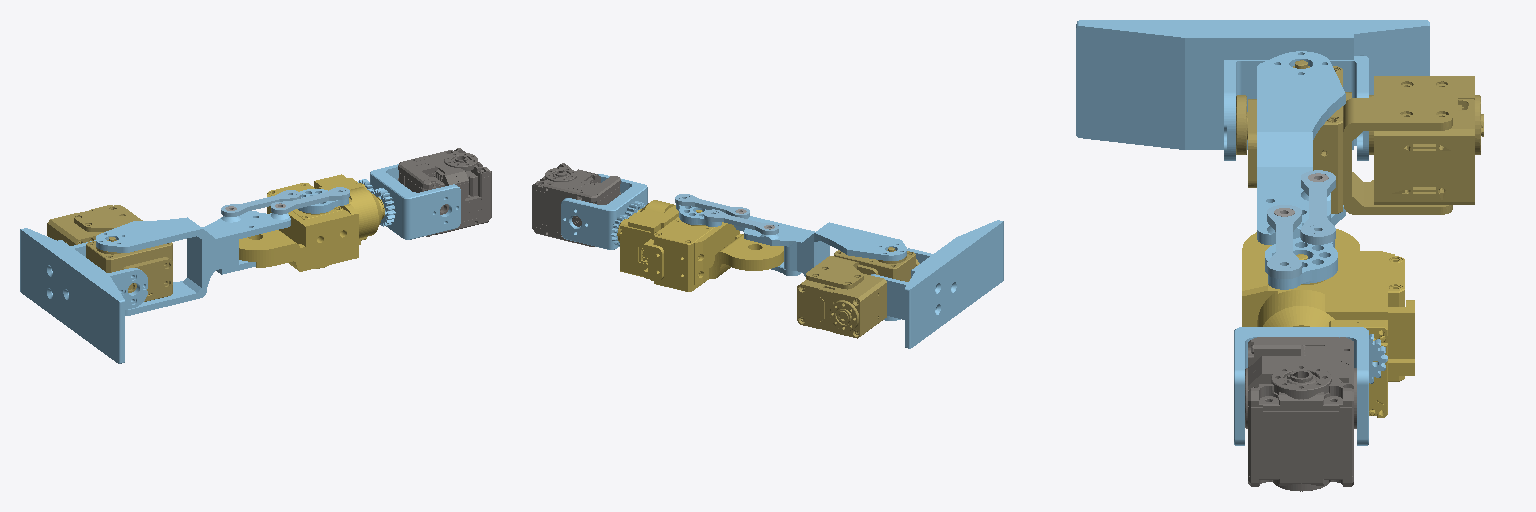
URDF robot description (left_leg_reorder):
<?xml version="1.0" ?><robot name="left_leg_reorder">  
  <link name="2xc430">    
    <visual>      
      <origin xyz="0 0 0" rpy="0 -0 0"/>      
      <geometry>        
        <mesh filename="package:///meshes/left_2xc430_visual.stl"/>        
      </geometry>      
      <material name="2xc430_material">        
        <color rgba="0.51698661238356047321 0.50347815951093488618 0.49050589017722012741 1.0"/>        
      </material>      
    </visual>    
    <collision>      
      <origin xyz="0 0 0" rpy="0 -0 0"/>      
      <geometry>        
        <mesh filename="package:///meshes/left_2xc430_collision.stl"/>        
      </geometry>      
    </collision>    
    <inertial>      
      <origin xyz="-0.012000151133967865147 0.00049588831386336226781 0.018504019244503618763" rpy="0 0 0"/>      
      <mass value="0.11059999999836234164"/>      
      <inertia ixx="2.2818802599021433919e-05" ixy="4.6888548259072258494e-08" ixz="4.6520143289445516196e-08" iyy="3.0871666424472358657e-05" iyz="-5.7477343899722563502e-07" izz="3.0871632082341921239e-05"/>      
    </inertial>    
  </link>  

  <link name="hip_yaw_link">    
    <visual>      
      <origin xyz="0 0 0" rpy="0 -0 0"/>      
      <geometry>        
        <mesh filename="package:///meshes/left_hip_yaw_link_visual.stl"/>        
      </geometry>      
      <material name="hip_yaw_link_material">        
        <color rgba="0.61568627450980395466 0.81176470588235283277 0.92941176470588238168 1.0"/>        
      </material>      
    </visual>    
    <collision>      
      <origin xyz="0 0 0" rpy="0 -0 0"/>      
      <geometry>        
        <mesh filename="package:///meshes/left_hip_yaw_link_collision.stl"/>        
      </geometry>      
    </collision>    
    <inertial>      
      <origin xyz="-2.6529777091804280315e-18 -0.015800610849654266737 -0.019005670096647751116" rpy="0 0 0"/>      
      <mass value="0.013199999999999994724"/>      
      <inertia ixx="5.7894615975174157252e-06" ixy="-4.5096954887673693913e-35" ixz="-4.6860781276867837534e-35" iyy="5.0110144042848759377e-06" iyz="1.1826010760651800808e-09" izz="2.7344876354814335894e-06"/>      
    </inertial>    
  </link>  

  <link name="spur_gear_21_teeth">    
    <visual>      
      <origin xyz="0 0 0" rpy="0 -0 0"/>      
      <geometry>        
        <mesh filename="package:///meshes/left_spur_gear_21_teeth_visual.stl"/>        
      </geometry>      
      <material name="spur_gear_21_teeth_material">        
        <color rgba="0.61568627450980395466 0.81176470588235294379 0.9294117647058824927 1.0"/>        
      </material>      
    </visual>    
    <collision>      
      <origin xyz="0 0 0" rpy="0 -0 0"/>      
      <geometry>        
        <mesh filename="package:///meshes/left_spur_gear_21_teeth_collision.stl"/>        
      </geometry>      
    </collision>    
    <inertial>      
      <origin xyz="-4.5505289275732625397e-11 -1.6782160465261941845e-11 -0.00249241020062506086" rpy="0 0 0"/>      
      <mass value="0.0022000000000000001325"/>      
      <inertia ixx="7.0162310059594196881e-08" ixy="3.8801235249534522434e-48" ixz="2.812550158047784253e-36" iyy="7.016231005804746178e-08" iyz="3.6086829965958625889e-39" izz="1.3125544198538289306e-07"/>      
    </inertial>    
  </link>  

  <link name="left_hip_pitch_link">    
    <visual>      
      <origin xyz="0 0 0" rpy="0 -0 0"/>      
      <geometry>        
        <mesh filename="package:///meshes/left_hip_pitch_link_visual.stl"/>        
      </geometry>      
      <material name="left_hip_pitch_link_material">        
        <color rgba="0.79618318075804139777 0.72120748766550990538 0.38540937988910844991 1.0"/>        
      </material>      
    </visual>    
    <collision>      
      <origin xyz="0 0 0" rpy="0 -0 0"/>      
      <geometry>        
        <mesh filename="package:///meshes/left_hip_pitch_link_collision.stl"/>        
      </geometry>      
    </collision>    
    <inertial>      
      <origin xyz="-0.0092773123251564133113 -0.0054583150498874076148 0.03951473811674113823" rpy="0 0 0"/>      
      <mass value="0.15848965119785962674"/>      
      <inertia ixx="8.2188788742760970928e-05" ixy="-1.3373705321924678437e-06" ixz="-9.0917451363903152822e-06" iyy="9.9396334685477745453e-05" iyz="1.298937899441436632e-06" izz="4.5892431466748451869e-05"/>      
    </inertial>    
  </link>  

  <link name="spur_gear_18_teeth">    
    <visual>      
      <origin xyz="0 0 0" rpy="0 -0 0"/>      
      <geometry>        
        <mesh filename="package:///meshes/left_spur_gear_18_teeth_visual.stl"/>        
      </geometry>      
      <material name="spur_gear_18_teeth_material">        
        <color rgba="0.61568627450980395466 0.81176470588235294379 0.92941176470588238168 1.0"/>        
      </material>      
    </visual>    
    <collision>      
      <origin xyz="0 0 0" rpy="0 -0 0"/>      
      <geometry>        
        <mesh filename="package:///meshes/left_spur_gear_18_teeth_collision.stl"/>        
      </geometry>      
    </collision>    
    <inertial>      
      <origin xyz="-7.7520300317166844125e-14 -3.6849386393036389205e-13 0.0017500000000010135486" rpy="0 0 0"/>      
      <mass value="0.0011999999999999998949"/>      
      <inertia ixx="2.9367899810799911435e-08" ixy="7.02382161729363821e-19" ixz="-3.9642189780159722141e-36" iyy="2.9367899814659476616e-08" iyz="7.4779432983140607212e-37" izz="5.6306346207859568346e-08"/>      
    </inertial>    
  </link>  

  <joint name="left_hip_yaw_drive" type="revolute">    
    <origin xyz="-0.019199999999993125344 0.00020000000000295475866 -3.3514857555871913064e-14" rpy="-3.1415926535896550043 -5.0131548558082056583e-13 4.8264233360682142308e-13"/>    
    <parent link="left_hip_pitch_link"/>    
    <child link="spur_gear_18_teeth"/>    
    <axis xyz="0 0 1"/>    
    <limit effort="1" velocity="20" lower="-1.8325957145940461324" upper="1.8325957145940461324"/>    
    <joint_properties friction="0.0"/>    
  </joint>  

  <link name="left_calf_link">    
    <visual>      
      <origin xyz="0 0 0" rpy="0 -0 0"/>      
      <geometry>        
        <mesh filename="package:///meshes/left_calf_link_visual.stl"/>        
      </geometry>      
      <material name="left_calf_link_material">        
        <color rgba="0.61568627450980395466 0.81176470588235283277 0.92941176470588238168 1.0"/>        
      </material>      
    </visual>    
    <collision>      
      <origin xyz="0 0 0" rpy="0 -0 0"/>      
      <geometry>        
        <mesh filename="package:///meshes/left_calf_link_collision.stl"/>        
      </geometry>      
    </collision>    
    <inertial>      
      <origin xyz="-0.0043450054391248908378 0.040752982165250292712 0.0087116093515538506331" rpy="0 0 0"/>      
      <mass value="0.030999999999999996309"/>      
      <inertia ixx="3.3069388685110848712e-05" ixy="-1.3783307153200011406e-06" ixz="-1.2742534026335853803e-07" iyy="7.7316525337312940424e-06" iyz="-7.3356500593809455715e-08" izz="2.8031377753986189355e-05"/>      
    </inertial>    
  </link>  

  <link name="bearing_683">    
    <visual>      
      <origin xyz="0 0 0" rpy="0 -0 0"/>      
      <geometry>        
        <mesh filename="package:///meshes/left_bearing_683_visual.stl"/>        
      </geometry>      
      <material name="bearing_683_material">        
        <color rgba="0.64705882352941179736 0.64705882352941179736 0.64705882352941179736 1.0"/>        
      </material>      
    </visual>    
    <collision>      
      <origin xyz="0 0 0" rpy="0 -0 0"/>      
      <geometry>        
        <mesh filename="package:///meshes/left_bearing_683_collision.stl"/>        
      </geometry>      
    </collision>    
    <inertial>      
      <origin xyz="2.7862896558581284628e-17 -2.4186774283159373987e-19 -0.0015499999999999934403" rpy="0 0 0"/>      
      <mass value="0.00048694686130641793437"/>      
      <inertia ixx="2.1551456503319887385e-09" ixy="1.1914621380619801841e-28" ixz="1.5101308346925888839e-38" iyy="2.1551456503319891521e-09" iyz="1.9510753379696893624e-38" izz="3.5303647444715305817e-09"/>      
    </inertial>    
  </link>  

  <joint name="left_knee_front_rev_2" type="revolute">    
    <origin xyz="-0.0057402514854759043028 -0.013858192987668382923 0.026199999999997631434" rpy="-3.141592653589793116 5.8119982868751027369e-16 -1.5702375052298918057"/>    
    <parent link="left_calf_link"/>    
    <child link="bearing_683"/>    
    <axis xyz="0 0 1"/>    
    <limit effort="1" velocity="20"/>    
    <joint_properties friction="0.0"/>    
  </joint>  

  <link name="bearing_683_2">    
    <visual>      
      <origin xyz="0 0 0" rpy="0 -0 0"/>      
      <geometry>        
        <mesh filename="package:///meshes/left_bearing_683_2_visual.stl"/>        
      </geometry>      
      <material name="bearing_683_2_material">        
        <color rgba="0.64705882352941179736 0.64705882352941179736 0.64705882352941179736 1.0"/>        
      </material>      
    </visual>    
    <collision>      
      <origin xyz="0 0 0" rpy="0 -0 0"/>      
      <geometry>        
        <mesh filename="package:///meshes/left_bearing_683_2_collision.stl"/>        
      </geometry>      
    </collision>    
    <inertial>      
      <origin xyz="-2.7648254672676526986e-17 -2.4186774283159783248e-19 -0.0015500000000000003792" rpy="0 0 0"/>      
      <mass value="0.00048694686130641793437"/>      
      <inertia ixx="2.1551456503319887385e-09" ixy="-7.8866825289820444564e-28" ixz="-2.3651432074089930782e-38" iyy="2.1551456503319883249e-09" iyz="-6.4744944073117677257e-39" izz="3.5303647444715305817e-09"/>      
    </inertial>    
  </link>  

  <joint name="left_knee_back_rev_2" type="revolute">    
    <origin xyz="0.005740251485475959814 0.013858192987669604168 0.026199999999998637573" rpy="3.141592653589793116 1.5424497757392420363e-15 -1.5720025997049917876"/>    
    <parent link="left_calf_link"/>    
    <child link="bearing_683_2"/>    
    <axis xyz="0 0 1"/>    
    <limit effort="1" velocity="20"/>    
    <joint_properties friction="0.0"/>    
  </joint>  

  <link name="left_ank_pitch_link">    
    <visual>      
      <origin xyz="0 0 0" rpy="0 -0 0"/>      
      <geometry>        
        <mesh filename="package:///meshes/left_ank_pitch_link_visual.stl"/>        
      </geometry>      
      <material name="left_ank_pitch_link_material">        
        <color rgba="0.70321688500203327621 0.64514870846184446673 0.40484735422826279017 1.0"/>        
      </material>      
    </visual>    
    <collision>      
      <origin xyz="0 0 0" rpy="0 -0 0"/>      
      <geometry>        
        <mesh filename="package:///meshes/left_ank_pitch_link_collision.stl"/>        
      </geometry>      
    </collision>    
    <inertial>      
      <origin xyz="0.01777024189140121585 0.012301334508572171061 0.018813528244421770519" rpy="0 0 0"/>      
      <mass value="0.17676376695067899658"/>      
      <inertia ixx="4.7283316680251603133e-05" ixy="-1.3380598598440868841e-06" ixz="-5.5304058905135221963e-07" iyy="0.00010706456048089208876" iyz="-5.3225137839476522468e-08" izz="0.00012185522397136354139"/>      
    </inertial>    
  </link>  

  <link name="ank_roll_link">    
    <visual>      
      <origin xyz="0 0 0" rpy="0 -0 0"/>      
      <geometry>        
        <mesh filename="package:///meshes/left_ank_roll_link_visual.stl"/>        
      </geometry>      
      <material name="ank_roll_link_material">        
        <color rgba="0.61568627450980395466 0.81176470588235294379 0.92941176470588238168 1.0"/>        
      </material>      
    </visual>    
    <collision>      
      <origin xyz="0 0 0" rpy="0 -0 0"/>      
      <geometry>        
        <mesh filename="package:///meshes/left_ank_roll_link_collision.stl"/>        
      </geometry>      
    </collision>    
    <inertial>      
      <origin xyz="-0.027003066516822105125 -2.005727129968961316e-12 0.033764011359896435593" rpy="0 0 0"/>      
      <mass value="0.042599999999999998979"/>      
      <inertia ixx="3.7284397827464328061e-05" ixy="-5.5173297572831528906e-16" ixz="2.3929183768080734033e-06" iyy="3.7589276943350436312e-05" iyz="5.093485532365750308e-12" izz="1.0090430906786797971e-05"/>      
    </inertial>    
  </link>  

  <joint name="left_ank_roll" type="revolute">    
    <origin xyz="0.022749999999985347915 -7.7438055967604668695e-15 0.019000000000000561579" rpy="-1.5707963267949487385 6.9598897929083939361e-14 1.5707963267951468023"/>    
    <parent link="left_ank_pitch_link"/>    
    <child link="ank_roll_link"/>    
    <axis xyz="0 0 1"/>    
    <limit effort="1" velocity="20" lower="-1.570796326794896558" upper="1.570796326794896558"/>    
    <joint_properties friction="0.0"/>    
  </joint>  

  <joint name="left_ank_pitch" type="revolute">    
    <origin xyz="-1.5860271119798389095e-15 0.099999999999998423483 0.027750000000001679573" rpy="-3.141592653589793116 2.6670249114811232296e-16 -3.8252904387067536217e-14"/>    
    <parent link="left_calf_link"/>    
    <child link="left_ank_pitch_link"/>    
    <axis xyz="0 0 1"/>    
    <limit effort="1" velocity="20" lower="-1.7453292519943295336" upper="0.785398163397448279"/>    
    <joint_properties friction="0.0"/>    
  </joint>  

  <joint name="left_knee" type="revolute">    
    <origin xyz="-9.150119726040088374e-16 -0.0087499999999997267464 0.085949999999997653277" rpy="1.5707963267948872321 4.8975632202997979707e-15 3.141592653589793116"/>    
    <parent link="left_hip_pitch_link"/>    
    <child link="left_calf_link"/>    
    <axis xyz="0 0 1"/>    
    <limit effort="1" velocity="20" lower="-2.0943951023931952626" upper="0"/>    
    <joint_properties friction="0.0"/>    
  </joint>  

  <link name="xm430_plate">    
    <visual>      
      <origin xyz="0 0 0" rpy="0 -0 0"/>      
      <geometry>        
        <mesh filename="package:///meshes/left_xm430_plate_visual.stl"/>        
      </geometry>      
      <material name="xm430_plate_material">        
        <color rgba="0.61568627450980395466 0.81176470588235294379 0.92941176470588227065 1.0"/>        
      </material>      
    </visual>    
    <collision>      
      <origin xyz="0 0 0" rpy="0 -0 0"/>      
      <geometry>        
        <mesh filename="package:///meshes/left_xm430_plate_collision.stl"/>        
      </geometry>      
    </collision>    
    <inertial>      
      <origin xyz="1.2574180636021760909e-18 -2.454297176641402282e-18 0.002527851391958388285" rpy="0 0 0"/>      
      <mass value="0.0027000000000000001429"/>      
      <inertia ixx="1.2887178787151829982e-07" ixy="5.873956255630364624e-08" ixz="1.8999776467072272227e-37" iyy="2.4635091298412544671e-07" iyz="3.1227251026058173467e-36" izz="3.6467998413810321832e-07"/>      
    </inertial>    
  </link>  

  <link name="knee_rod">    
    <visual>      
      <origin xyz="0 0 0" rpy="0 -0 0"/>      
      <geometry>        
        <mesh filename="package:///meshes/left_knee_rod_visual.stl"/>        
      </geometry>      
      <material name="knee_rod_material">        
        <color rgba="0.62051618944235198416 0.78640765248647581664 0.88594253031295022716 1.0"/>        
      </material>      
    </visual>    
    <collision>      
      <origin xyz="0 0 0" rpy="0 -0 0"/>      
      <geometry>        
        <mesh filename="package:///meshes/left_knee_rod_collision.stl"/>        
      </geometry>      
    </collision>    
    <inertial>      
      <origin xyz="0.017534307439465060541 1.9597103348831170378e-05 -0.0015987301647619339435" rpy="0 0 0"/>      
      <mass value="0.0031629468613064179276"/>      
      <inertia ixx="2.4224450180623724587e-08" ixy="-1.9777338984408308296e-10" ixz="4.9178338762830809582e-10" iyy="8.1758888028360200094e-07" iyz="5.4963846751764537446e-13" izz="8.3704884992894945209e-07"/>      
    </inertial>    
  </link>  

  <joint name="left_knee_front_rev_1" type="revolute">    
    <origin xyz="0.013858192987669312735 -0.0057402514854763440552 0.004999999999999997502" rpy="-3.1415926535897784611 -7.4622057945515895608e-15 -3.1410338320247936927"/>    
    <parent link="xm430_plate"/>    
    <child link="knee_rod"/>    
    <axis xyz="0 0 1"/>    
    <limit effort="1" velocity="20"/>    
    <joint_properties friction="0.0"/>    
  </joint>  

  <link name="knee_rod_2">    
    <visual>      
      <origin xyz="0 0 0" rpy="0 -0 0"/>      
      <geometry>        
        <mesh filename="package:///meshes/left_knee_rod_2_visual.stl"/>        
      </geometry>      
      <material name="knee_rod_2_material">        
        <color rgba="0.62051618944235198416 0.78640765248647581664 0.88594253031295022716 1.0"/>        
      </material>      
    </visual>    
    <collision>      
      <origin xyz="0 0 0" rpy="0 -0 0"/>      
      <geometry>        
        <mesh filename="package:///meshes/left_knee_rod_2_collision.stl"/>        
      </geometry>      
    </collision>    
    <inertial>      
      <origin xyz="0.017534287401029989562 -4.2302323075187753124e-05 -0.0015987301647627436257" rpy="0 0 0"/>      
      <mass value="0.0031629468613064179276"/>      
      <inertia ixx="2.4225259089666954163e-08" ixy="4.2691331074777808525e-10" ixz="4.9178282561869325727e-10" iyy="8.1758847582921511072e-07" iyz="-1.1864500396169323768e-12" izz="8.370492543836071811e-07"/>      
    </inertial>    
  </link>  

  <joint name="left_knee_back_rev_1" type="revolute">    
    <origin xyz="-0.013858192987669298857 0.0057402514854763457899 0.0050000000000000044409" rpy="-3.1415926535897775729 -9.0463447639716938948e-15 3.1403863806796916691"/>    
    <parent link="xm430_plate"/>    
    <child link="knee_rod_2"/>    
    <axis xyz="0 0 1"/>    
    <limit effort="1" velocity="20"/>    
    <joint_properties friction="0.0"/>    
  </joint>  

  <joint name="left_knee_act" type="revolute">    
    <origin xyz="-7.4872906434390518473e-16 0.012449999999999808442 0.044499999999998832156" rpy="-1.5707963267948819031 1.5707963267948761299 0"/>    
    <parent link="left_hip_pitch_link"/>    
    <child link="xm430_plate"/>    
    <axis xyz="0 0 1"/>    
    <limit effort="1" velocity="20" lower="-2.0943951023931952626" upper="0"/>    
    <joint_properties friction="0.0"/>    
  </joint>  

  <joint name="left_hip_yaw_driven" type="revolute">    
    <origin xyz="6.1229146868660582384e-18 3.4694469519536141888e-18 -0.0050000000000000044409" rpy="3.1415926535897837901 1.1763977000879646623e-14 2.7749339408464486521e-29"/>    
    <parent link="spur_gear_21_teeth"/>    
    <child link="left_hip_pitch_link"/>    
    <axis xyz="0 0 1"/>    
    <limit effort="1" velocity="20" lower="-1.570796326794896558" upper="1.570796326794896558"/>    
    <joint_properties friction="0.0"/>    
  </joint>  

  <joint name="left_hip_yaw_fixed" type="fixed">    
    <origin xyz="-3.4694469519536141888e-18 -0.027999999999999986705 -0.018999999999999999528" rpy="-1.5707963267948950037 1.570796326794896336 0"/>    
    <parent link="hip_yaw_link"/>    
    <child link="spur_gear_21_teeth"/>    
    <axis xyz="0 0 1"/>    
    <limit effort="1" velocity="20"/>    
    <joint_properties friction="0.0"/>    
  </joint>  

  <joint name="left_hip_roll" type="revolute">    
    <origin xyz="-0.024000000716154074043 0.019000000152474230686 0.019000000152447748397" rpy="-1.5707963267952167463 -1.5707963267948206187 0"/>    
    <parent link="2xc430"/>    
    <child link="hip_yaw_link"/>    
    <axis xyz="0 0 1"/>    
    <limit effort="1" velocity="20" lower="-0.785398163397448279" upper="0.785398163397448279"/>    
    <joint_properties friction="0.0"/>    
  </joint>  


</robot>

--- Facts derived from the render (not from the file) ---
The picture shows the robot from 3 angles, left to right: view 1: azimuth 30°, elevation 25°; view 2: azimuth 150°, elevation 25°; view 3: azimuth 270°, elevation 25°; orthographic projection.
Model left_leg_reorder with 13 links and 12 joints (11 revolute, 1 fixed), rooted at 2xc430, posed all joints at 0.
Links seen in each view (by area): view 1: ank_roll_link, left_hip_pitch_link, left_calf_link, left_ank_pitch_link, 2xc430, hip_yaw_link, knee_rod, knee_rod_2, xm430_plate; view 2: left_hip_pitch_link, ank_roll_link, left_ank_pitch_link, left_calf_link, 2xc430, hip_yaw_link, knee_rod_2, knee_rod; view 3: ank_roll_link, left_ank_pitch_link, 2xc430, left_hip_pitch_link, left_calf_link, hip_yaw_link, xm430_plate, knee_rod_2, knee_rod, spur_gear_18_teeth.
Link boxes in pixels (x1=…): ank_roll_link: x1=20, y1=228, x2=147, y2=363; left_hip_pitch_link: x1=239, y1=174, x2=384, y2=271; left_calf_link: x1=96, y1=211, x2=290, y2=315; left_ank_pitch_link: x1=47, y1=205, x2=172, y2=301; 2xc430: x1=398, y1=148, x2=491, y2=236; hip_yaw_link: x1=370, y1=164, x2=460, y2=239; knee_rod: x1=271, y1=187, x2=349, y2=214; knee_rod_2: x1=221, y1=190, x2=300, y2=216; xm430_plate: x1=298, y1=189, x2=348, y2=213; left_hip_pitch_link: x1=617, y1=200, x2=783, y2=291; ank_roll_link: x1=871, y1=220, x2=1003, y2=348; left_ank_pitch_link: x1=797, y1=247, x2=919, y2=338; left_calf_link: x1=734, y1=216, x2=906, y2=320; 2xc430: x1=532, y1=163, x2=620, y2=246; hip_yaw_link: x1=561, y1=174, x2=647, y2=249; knee_rod_2: x1=704, y1=209, x2=778, y2=234; knee_rod: x1=675, y1=194, x2=749, y2=218; ank_roll_link: x1=1076, y1=20, x2=1429, y2=160; left_ank_pitch_link: x1=1236, y1=60, x2=1483, y2=214; 2xc430: x1=1245, y1=337, x2=1356, y2=491; left_hip_pitch_link: x1=1242, y1=229, x2=1414, y2=417; left_calf_link: x1=1257, y1=51, x2=1345, y2=244; hip_yaw_link: x1=1234, y1=327, x2=1368, y2=445; xm430_plate: x1=1265, y1=237, x2=1337, y2=289; knee_rod_2: x1=1300, y1=170, x2=1335, y2=244; knee_rod: x1=1267, y1=205, x2=1301, y2=278; spur_gear_18_teeth: x1=1369, y1=334, x2=1387, y2=383.
Bounding box of the posed robot: 0.2932 × 0.138 × 0.0489 m (x, y, z).
13 mesh visuals loaded from 13 distinct referenced files (13 binary STL).
